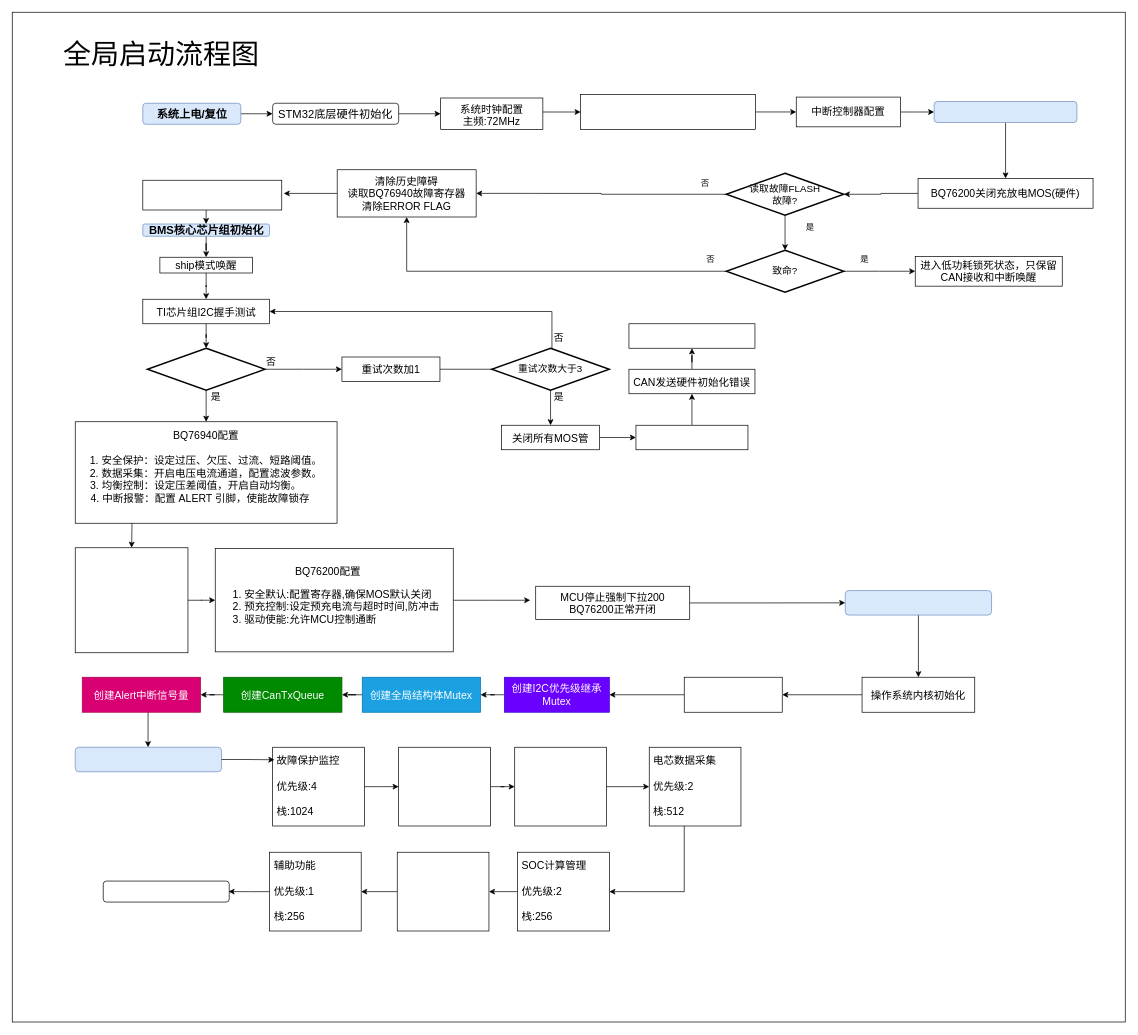
Some shapes in this 1138 by 1035 pixel diagram are drawn without their labels. Each missing label, with the box of its shape:
BQ76Z100配置 读取固件版本 若不匹配:Unseal 配置Chem ID Seal 发送复位: (75, 547, 188, 653)
CAN总线通信 优先级:3 栈:1024: (514, 747, 606, 826)
FreeRTOS操作系统初始化: (845, 590, 992, 615)
LED闪烁+蜂鸣器报警: (635, 425, 748, 450)
充放电识别与控制 优先级:3 栈:512: (398, 747, 490, 826)
创建IPC对象: (684, 677, 782, 712)
创建七大任务: (75, 747, 222, 772)
初始化看门狗:超时1s: (142, 180, 282, 210)
启动任务调度器: (103, 880, 229, 902)
基础外设初始化: GPIO,I2C,CAN,ADC,TIM,IWDG: (580, 94, 756, 130)
电池均衡控制 优先级:1 栈:512: (397, 852, 489, 931)
硬件安全与默认状态设置: (933, 101, 1077, 122)
进入低功耗等待人工检查: (628, 323, 755, 348)
通信正常: (146, 347, 265, 391)
